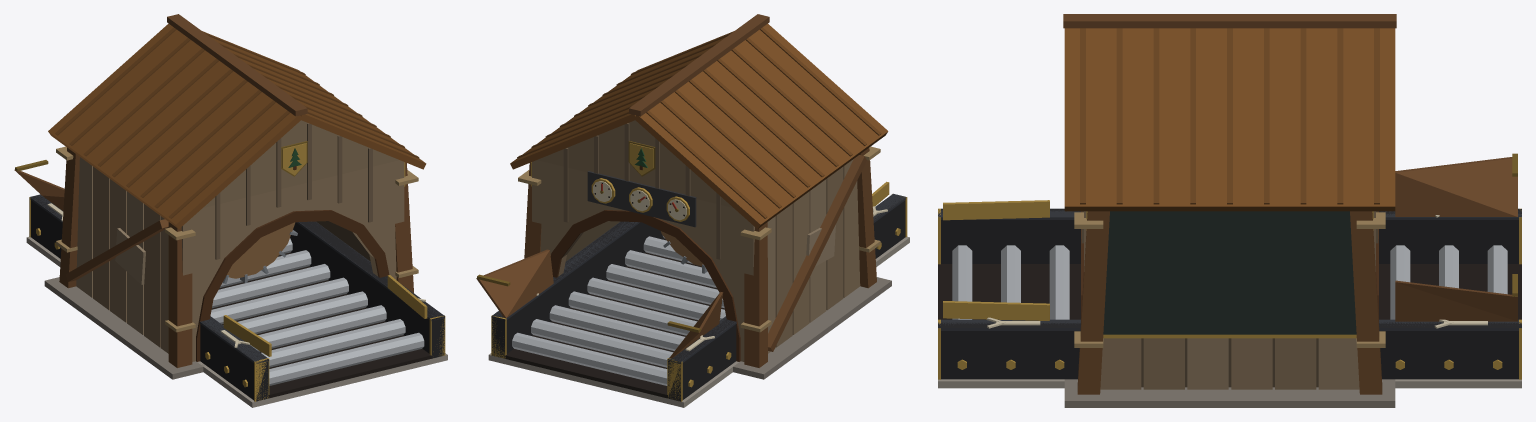
Rendered from SawmillRickety.glb.
The picture shows the model from 3 angles, left to right: view 1: azimuth 30°, elevation 25°; view 2: azimuth 150°, elevation 25°; view 3: azimuth 270°, elevation 25°; orthographic projection. The views are drawn at different scales.
Parts seen in each view (by area): view 1: Body, Rollers, Belt, SawBlade; view 2: Body, Rollers, Belt, SawBlade; view 3: Body, Rollers, Belt, ArrowDecal.
Boxes of the visible parts, x1=… form: Body: x1=14, y1=14, x2=447, y2=407; Rollers: x1=36, y1=228, x2=424, y2=387; Belt: x1=211, y1=252, x2=431, y2=398; SawBlade: x1=222, y1=222, x2=297, y2=283; Body: x1=476, y1=14, x2=909, y2=407; Rollers: x1=512, y1=228, x2=900, y2=387; Belt: x1=505, y1=238, x2=724, y2=398; SawBlade: x1=661, y1=231, x2=707, y2=273; Body: x1=938, y1=14, x2=1521, y2=407; Rollers: x1=952, y1=245, x2=1507, y2=369; Belt: x1=938, y1=264, x2=1521, y2=319; ArrowDecal: x1=987, y1=215, x2=1487, y2=328.
Size of the model in its own units: 7.9 by 7.01 by 12.
